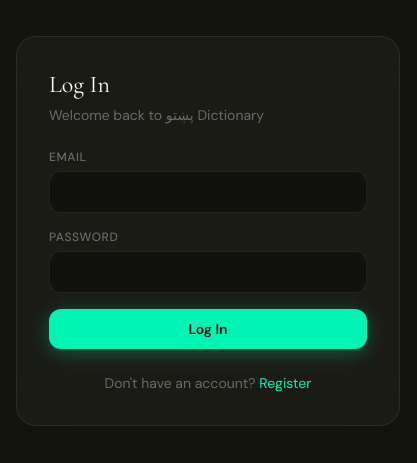
Test: Login page › shows a validation error when email field is empty on submit
This screenshot has width=417, height=463.
Click the button "Log In" at (208, 329), box [49,309,367,349]
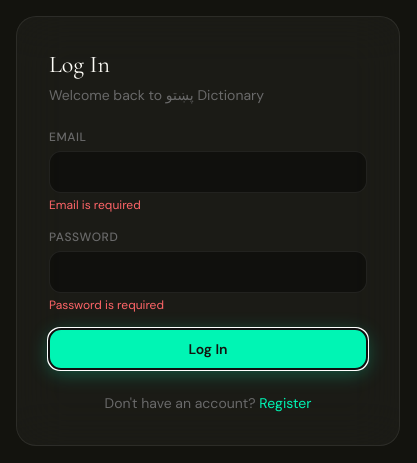
Expected: the text "Email is required" is shown, [49,197,141,213]
